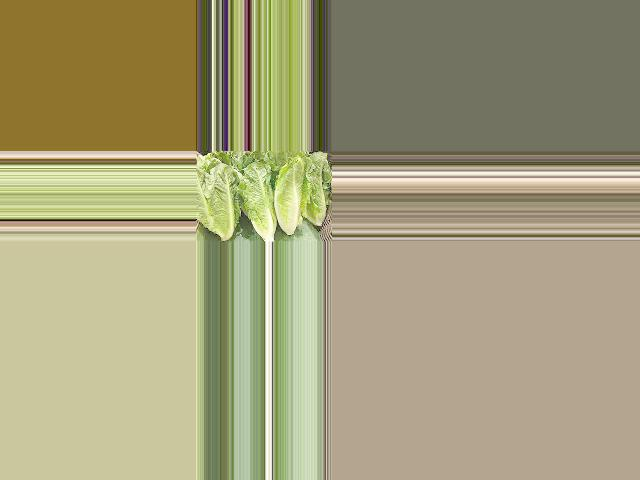lettuce: (304, 151, 326, 223)
